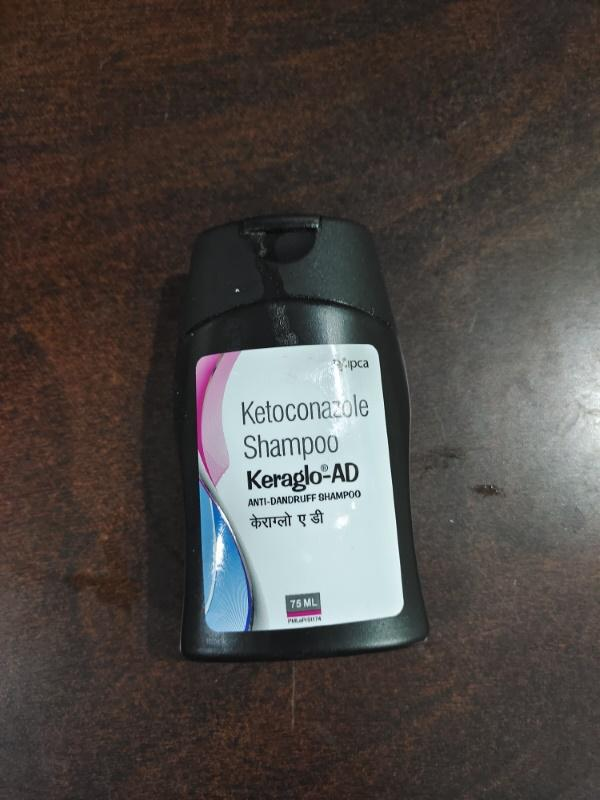KeraGlo: (156, 205, 442, 673)
